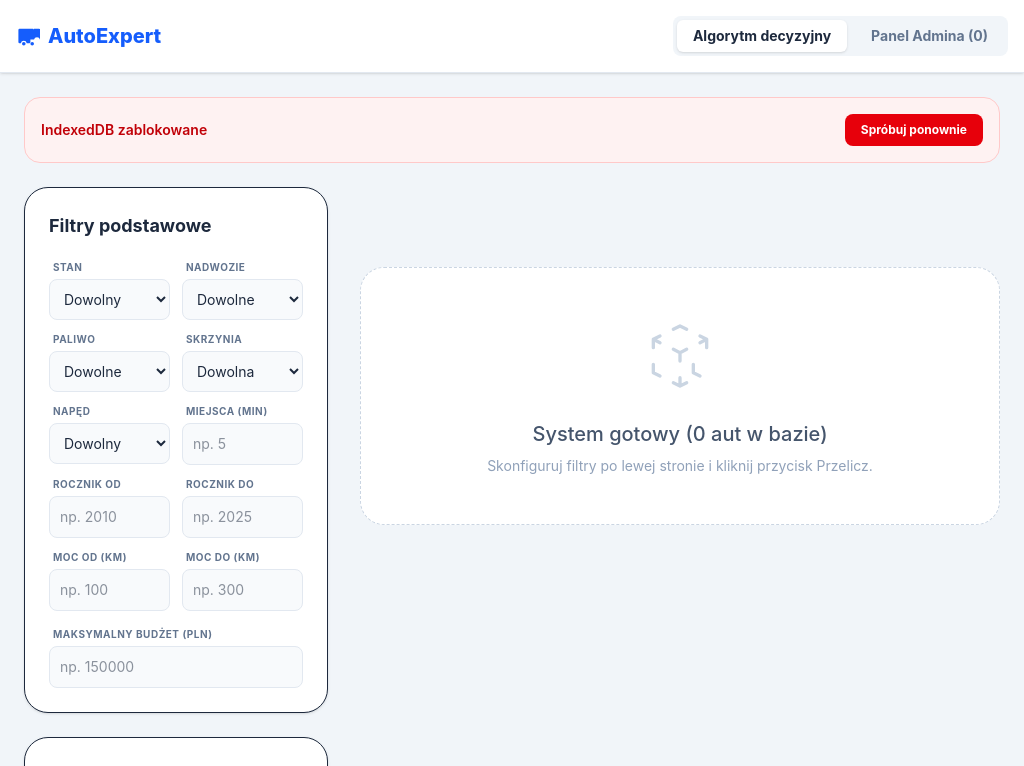
Test: Komponent App (testy integracyjne) › wyświetla baner błędu przy problemie z bazą i pozwala ponowić próbę
Expected: the message shows "IndexedDB zablokowane", [41,121,207,138]
Click the button "Spróbuj ponownie".
click(914, 130)  # box [845,114,983,146]
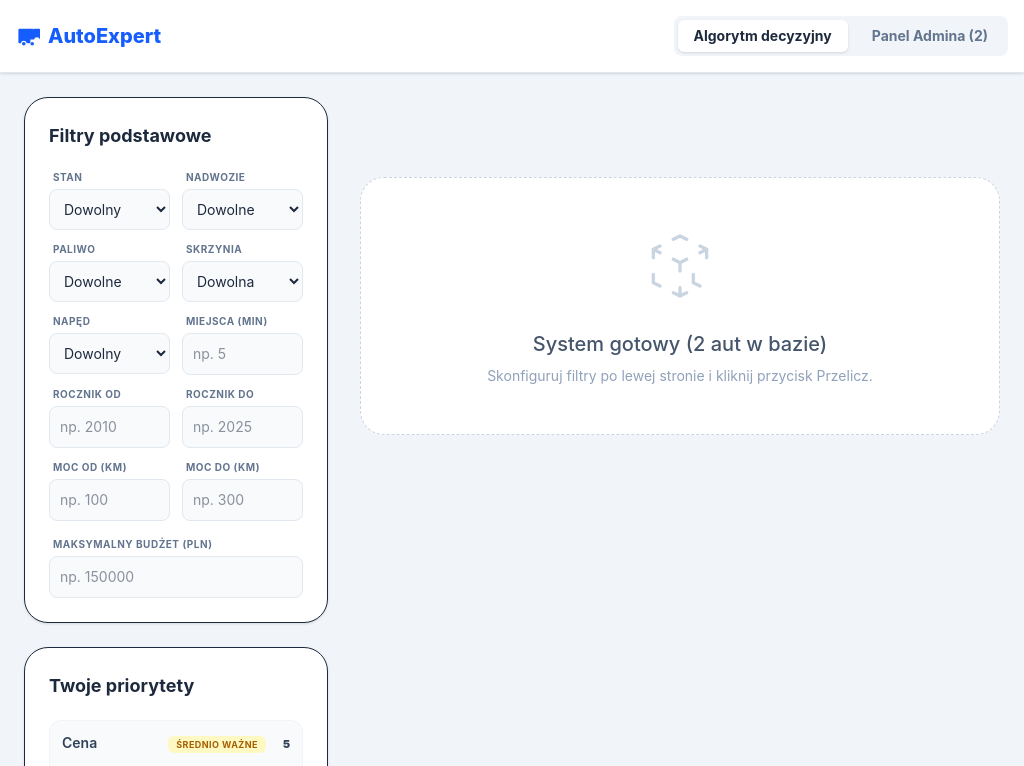
Expected: the text "System gotowy (2 aut w bazie)" is shown, [533,330,827,358]
